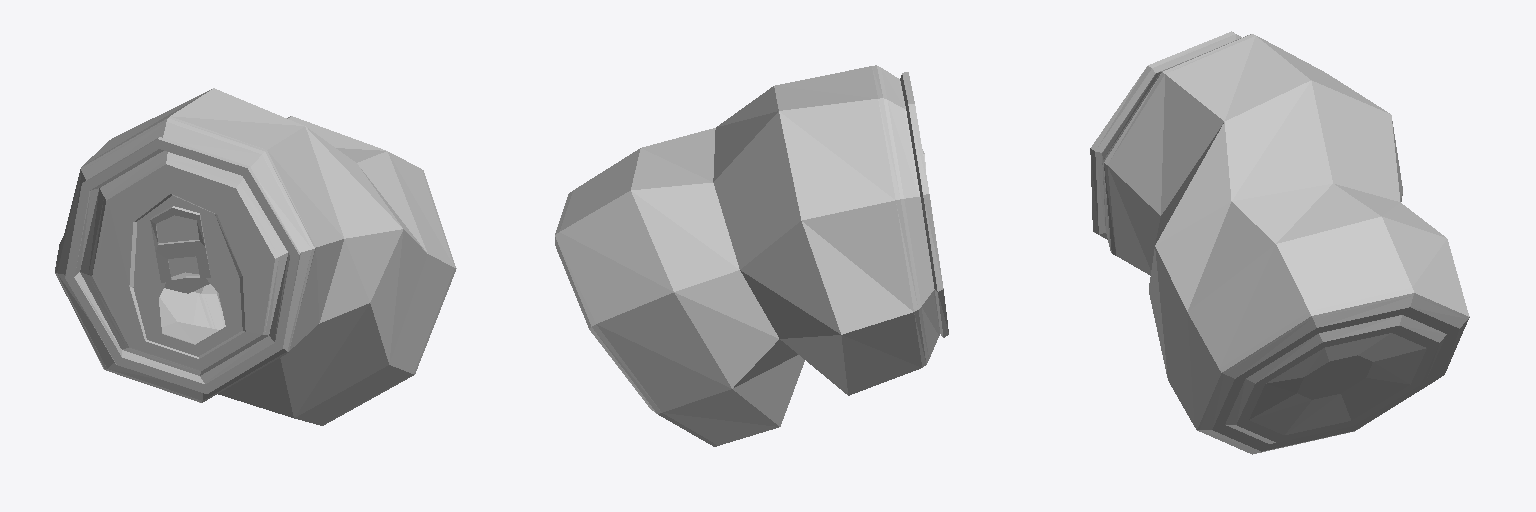
The model's file is can.obj.
The picture shows the model from 3 angles: view 1: azimuth 30°, elevation 25°; view 2: azimuth 150°, elevation 25°; view 3: azimuth 270°, elevation 25°; orthographic projection.
Size of the model in its own units: 0.7307 by 0.6579 by 0.6548.